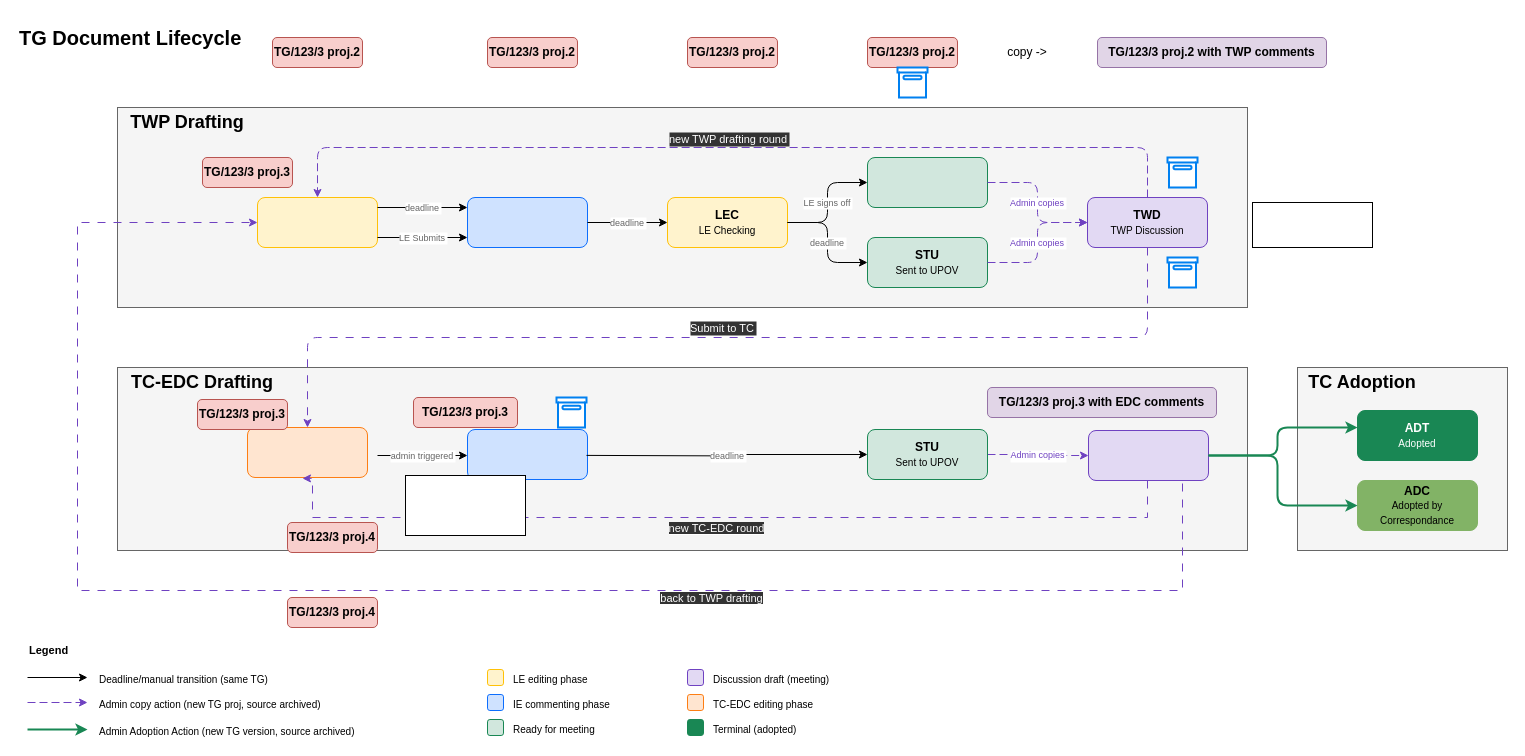
Some shapes in this 1525 by 756 pixel diagram are drawn without their labels. The centre of each missing label's shape, as x and y in pixels:
Admin is Editing Live: the point at 1312,225
ECC EDC Comments: the point at 527,454
IEC IE Comments: the point at 527,222
LED LE Draft: the point at 317,222
LES LE Signed Off: the point at 927,182
TCD EDC Draft: the point at 307,452
TDD TC Discussion: the point at 1148,455
with start/end date EDCC period: the point at 465,505
